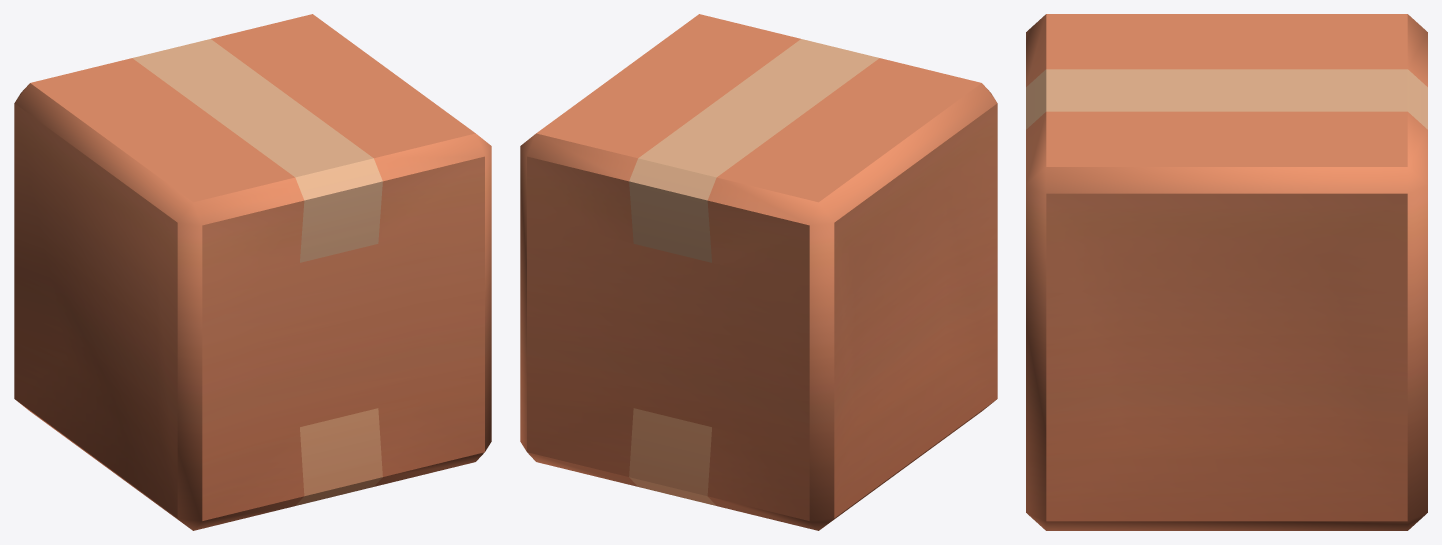
File: mod-caixa-papelao.gltf
3 views of the same model, side by side, from view 1: azimuth 30°, elevation 25°; view 2: azimuth 150°, elevation 25°; view 3: azimuth 270°, elevation 25° (orthographic). The views are drawn at different scales.
Parts seen in each view (by area): view 1: box; view 2: box; view 3: box.
Boxes of the visible parts, bbox=[...] form: box: bbox=[14, 14, 491, 530]; box: bbox=[520, 14, 997, 530]; box: bbox=[1026, 14, 1427, 530].
Size of the model in its own units: 0.4576 by 0.4576 by 0.4576.
Materials: 1 (1 with a texture image).
